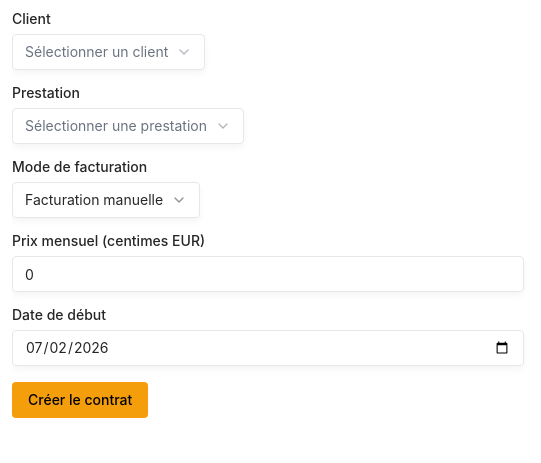
ContractForm › AC4 — price input is readOnly when billingMode is stripe_auto
Click the dropdown with test id "contract-billing-mode-select": (106, 200) x1=12 y1=182 x2=200 y2=218
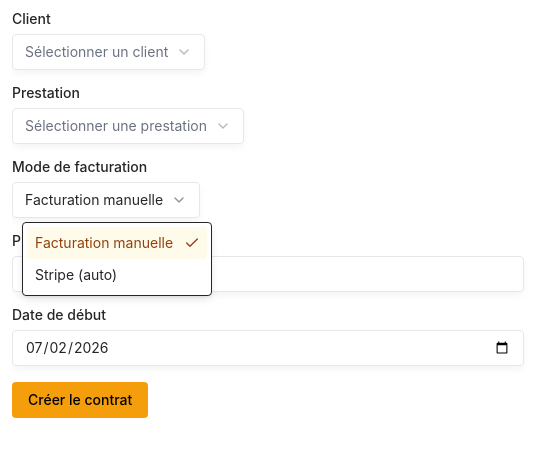
Expected: the option "Stripe (auto)" is shown
Click the option "Stripe (auto)": (76, 274) x1=35 y1=266 x2=117 y2=283
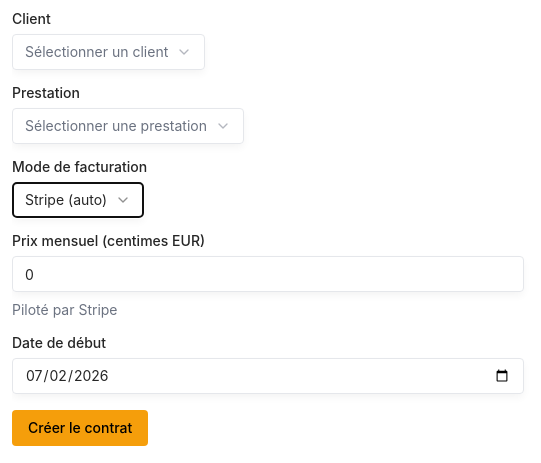
Expected: the text with test id "stripe-auto-hint" reads "Piloté par Stripe", x1=12 y1=301 x2=118 y2=318
